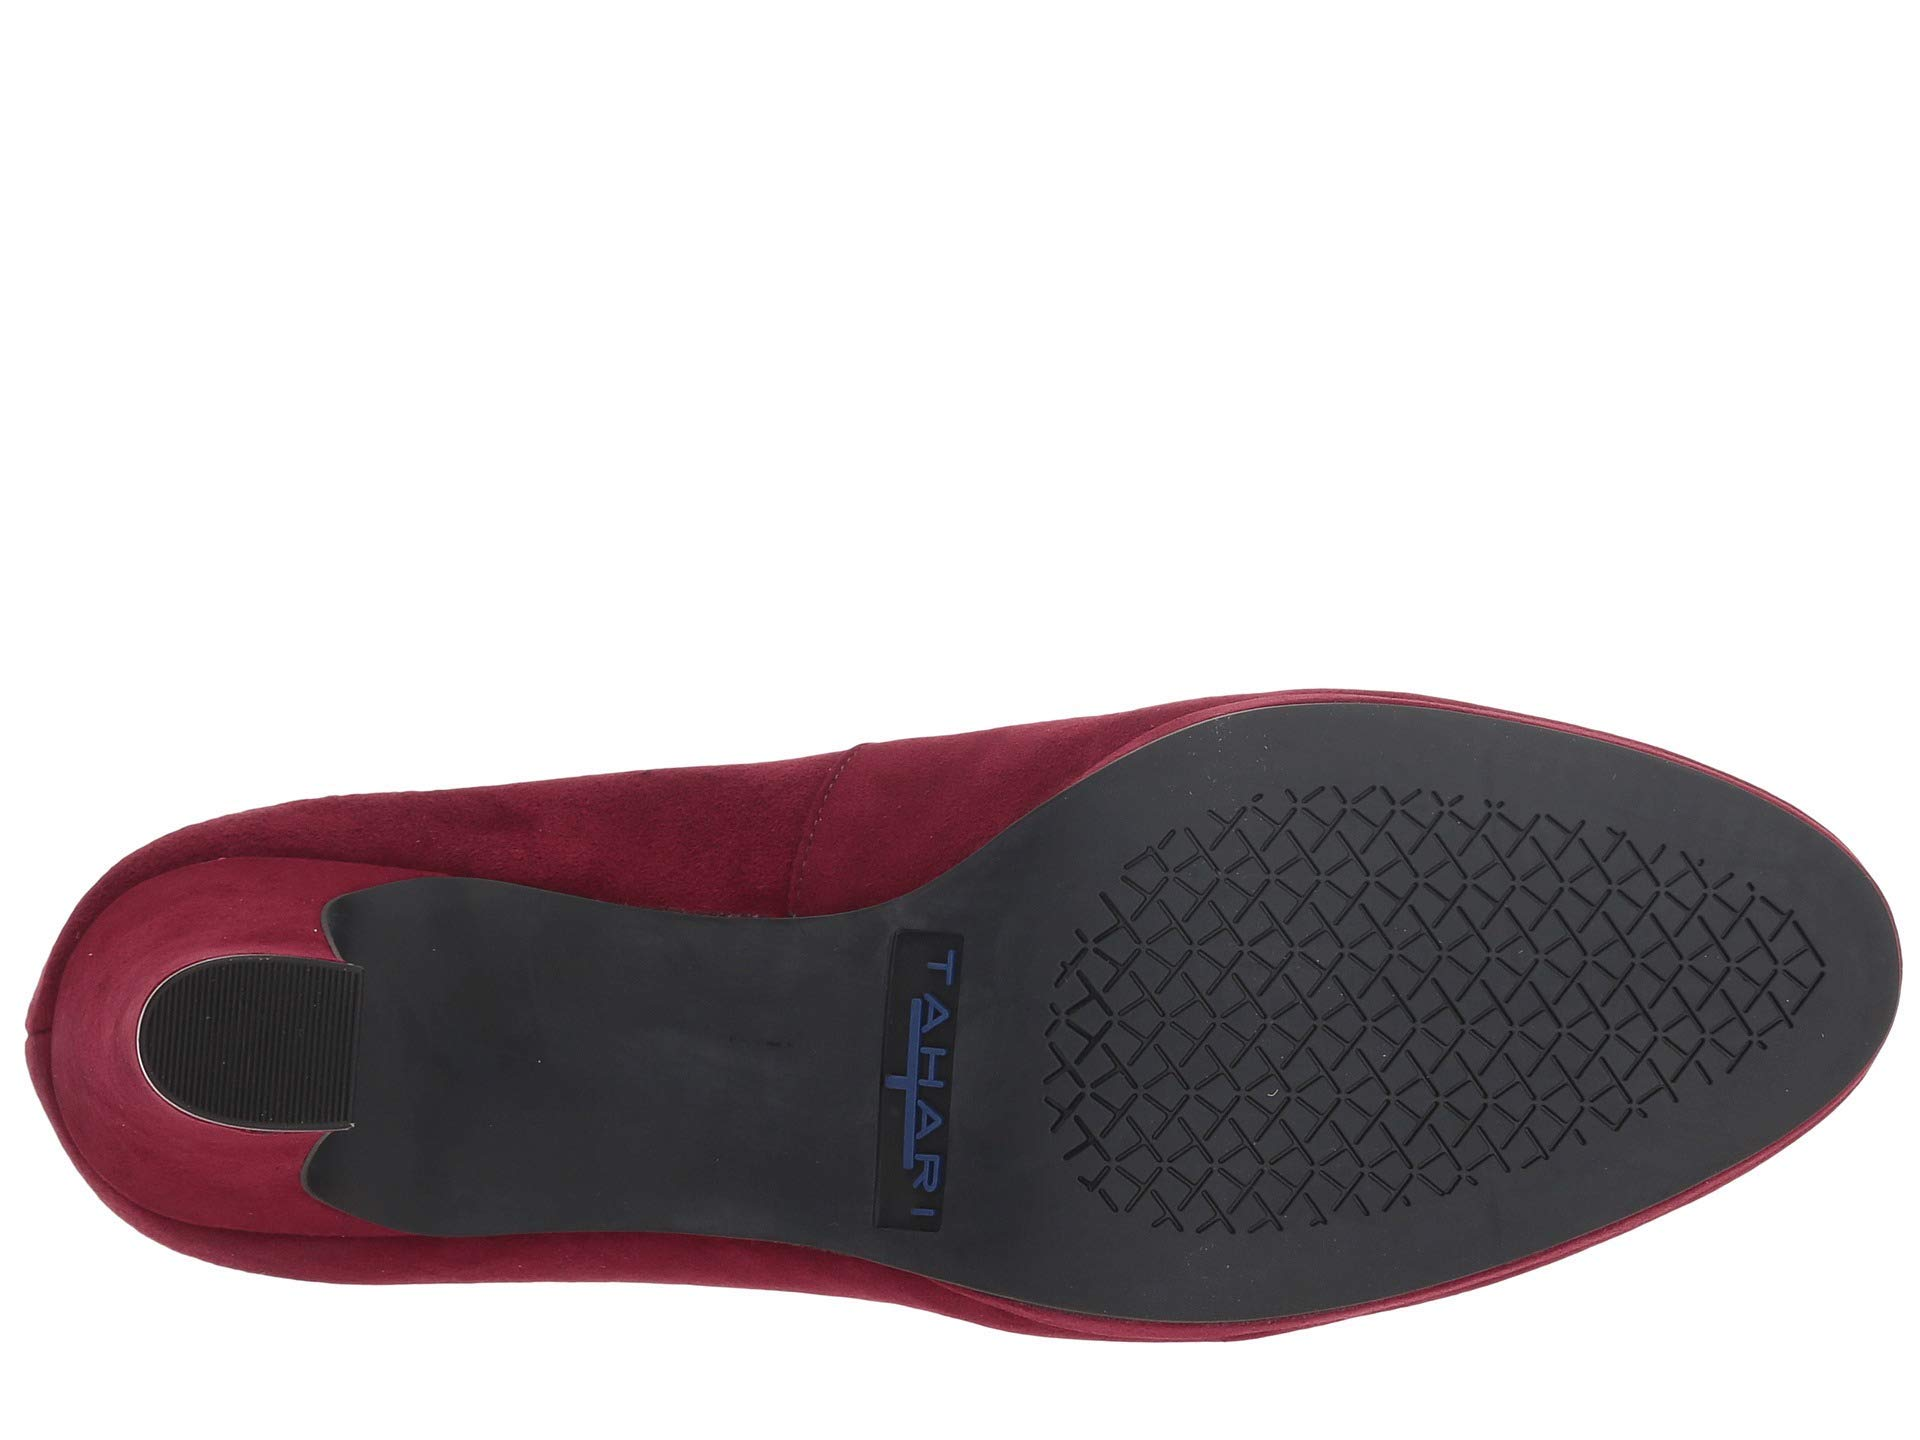line: (860, 902, 1004, 1249), (194, 976, 295, 1068)
quad: (1217, 814, 1634, 1137), (860, 902, 1004, 1249)
text: (860, 902, 1004, 1249)
triangle: (1217, 814, 1634, 1137)
